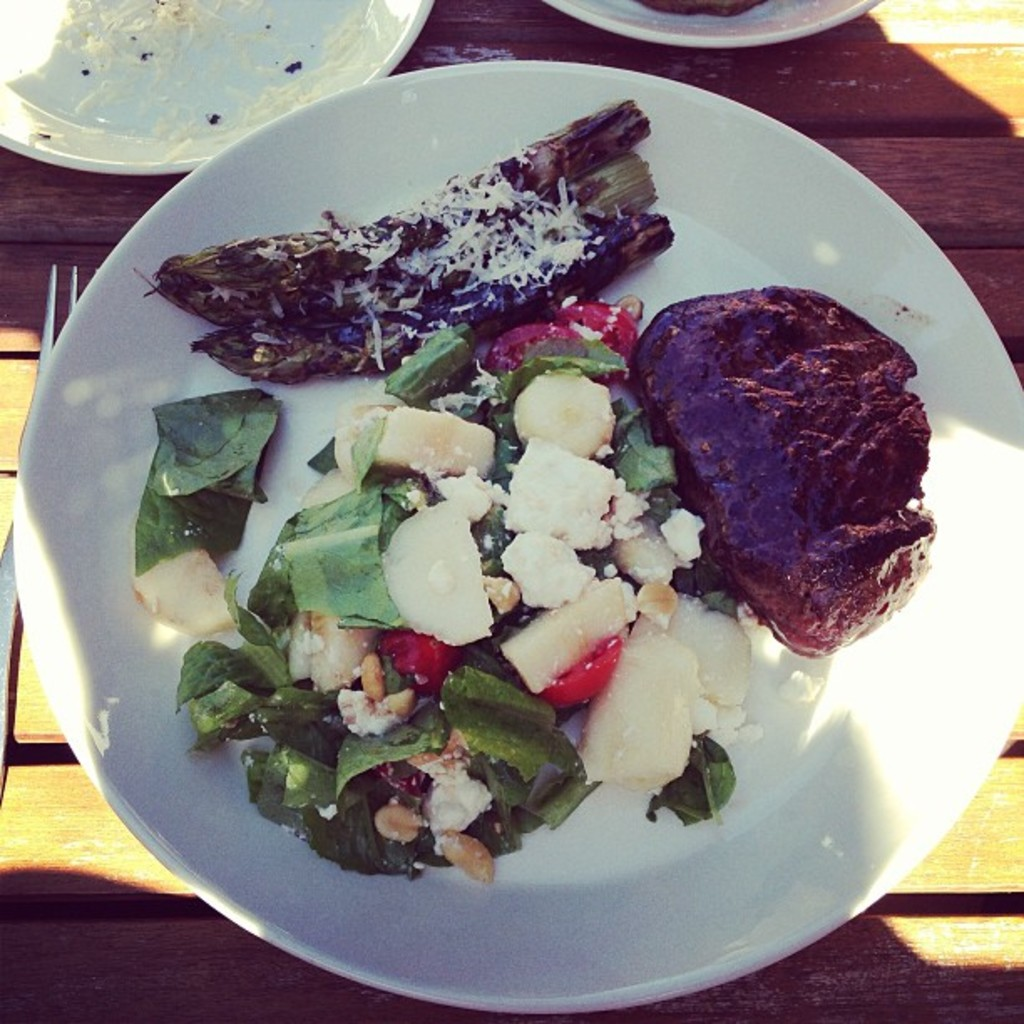plate: (540, 0, 873, 45)
